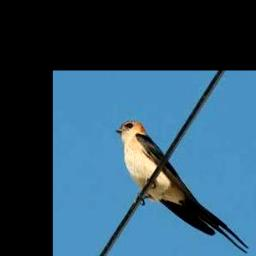Swallow: (115, 120, 249, 254)
